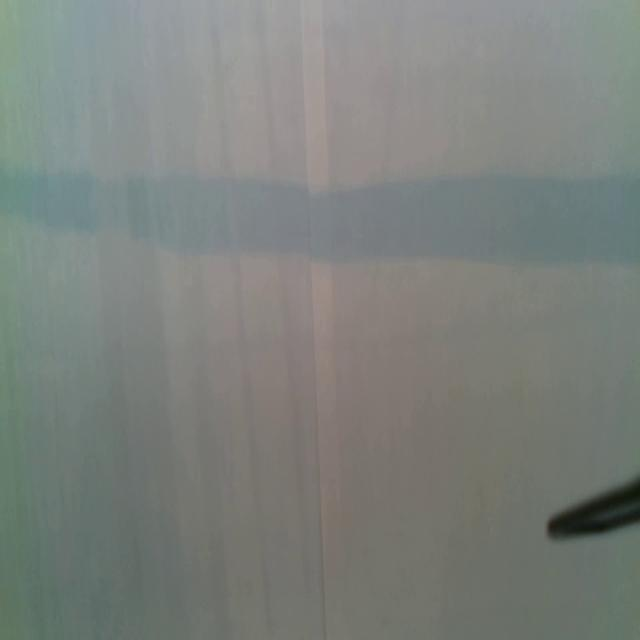color bleeding: (0, 157, 640, 274)
crease: (300, 0, 332, 640)
